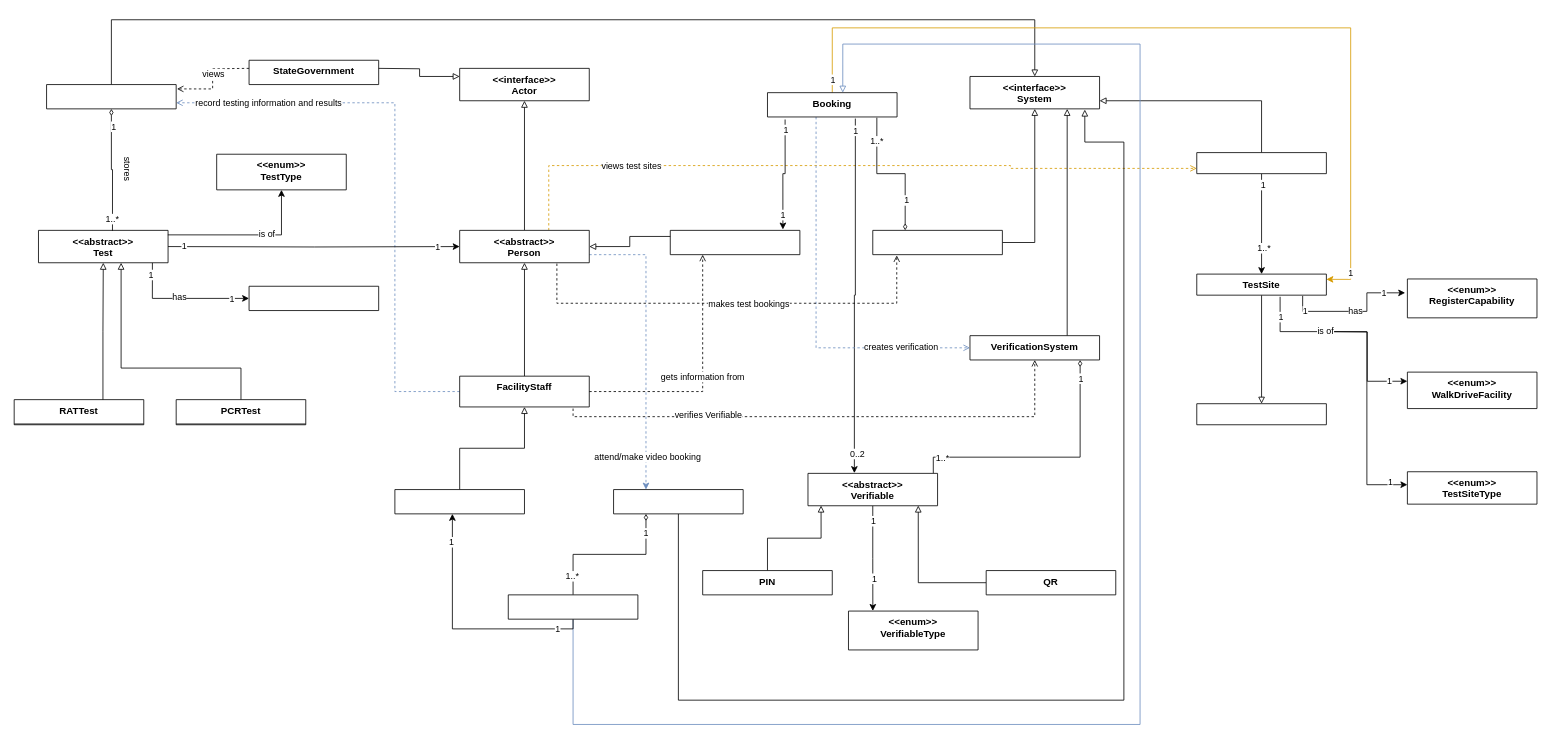
Image size: 1551x745. Some labels were removed from this diagram. Each missing label, with the centre of its shape:
"BookingSystem" belongs at (937,242).
"ExpertTeam" belongs at (459,501).
"Location" belongs at (1261,414).
"Patient" belongs at (734,242).
"RecordSystem" belongs at (111,96).
"Result" belongs at (313,298).
"TestSiteSystem" belongs at (1261,163).
"VideoBooking" belongs at (572,606).
"VideoSystem" belongs at (678,501).
